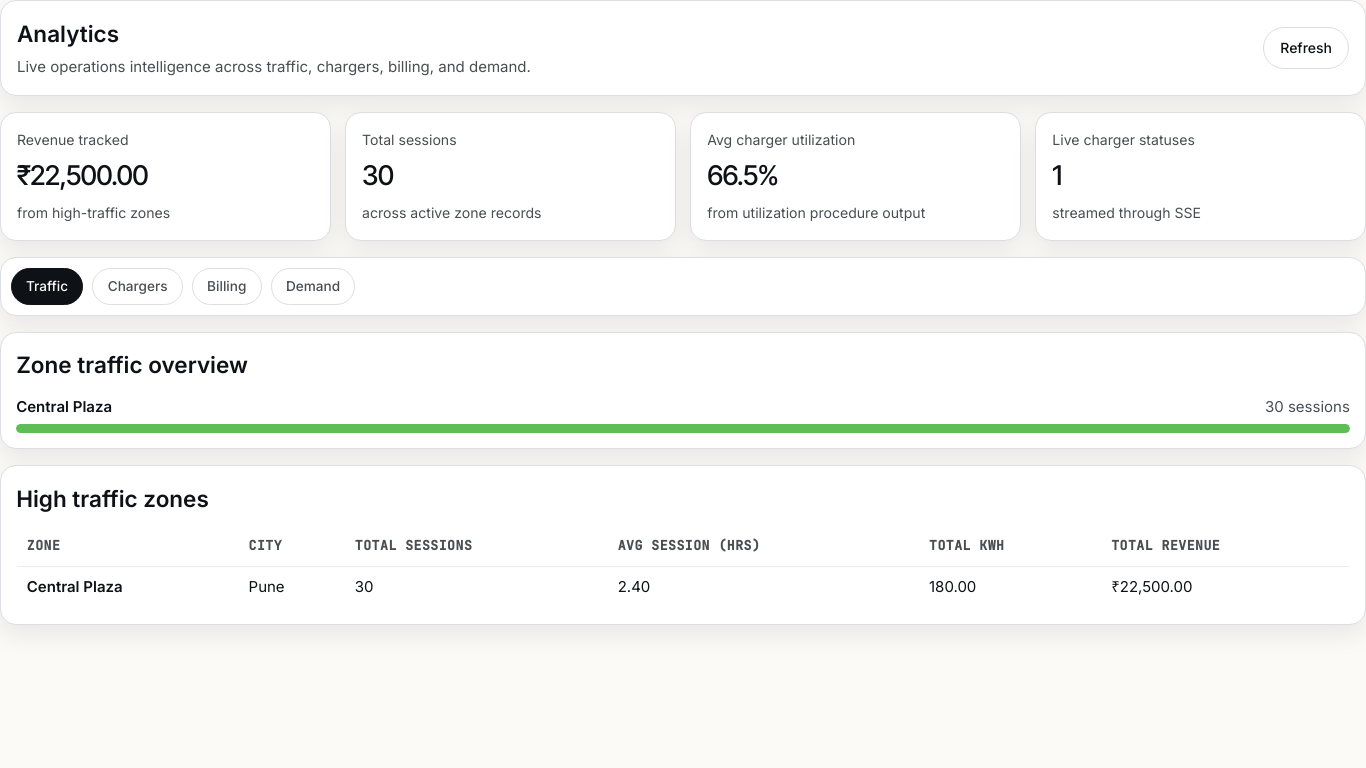
Scenario: AnalyticsPage › loads analytics and lets admin switch tabs
Expected: the heading "High traffic zones" is shown, [16,482,209,515]
Expected: the text "Central Plaza" below "Zone traffic overview" is shown, [16,397,112,416]
Click the tab "Chargers": coordinates (138, 287) [92,268,183,305]
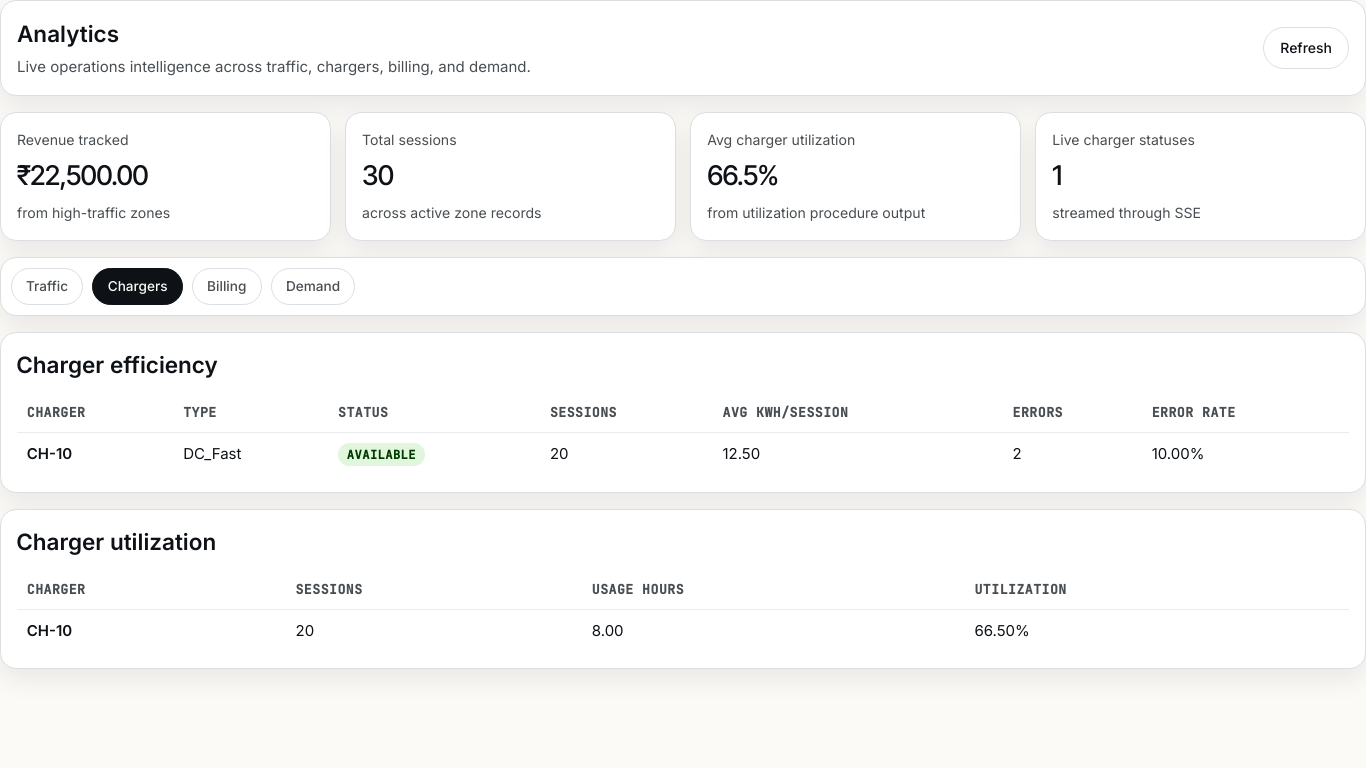
Expected: the heading "Charger efficiency" is shown, [16,348,218,382]
Expected: the text "CH-10" next to "DC_Fast" is shown, [27,444,72,463]
Click the tab "Demand": coordinates (313, 287) [270,268,356,305]
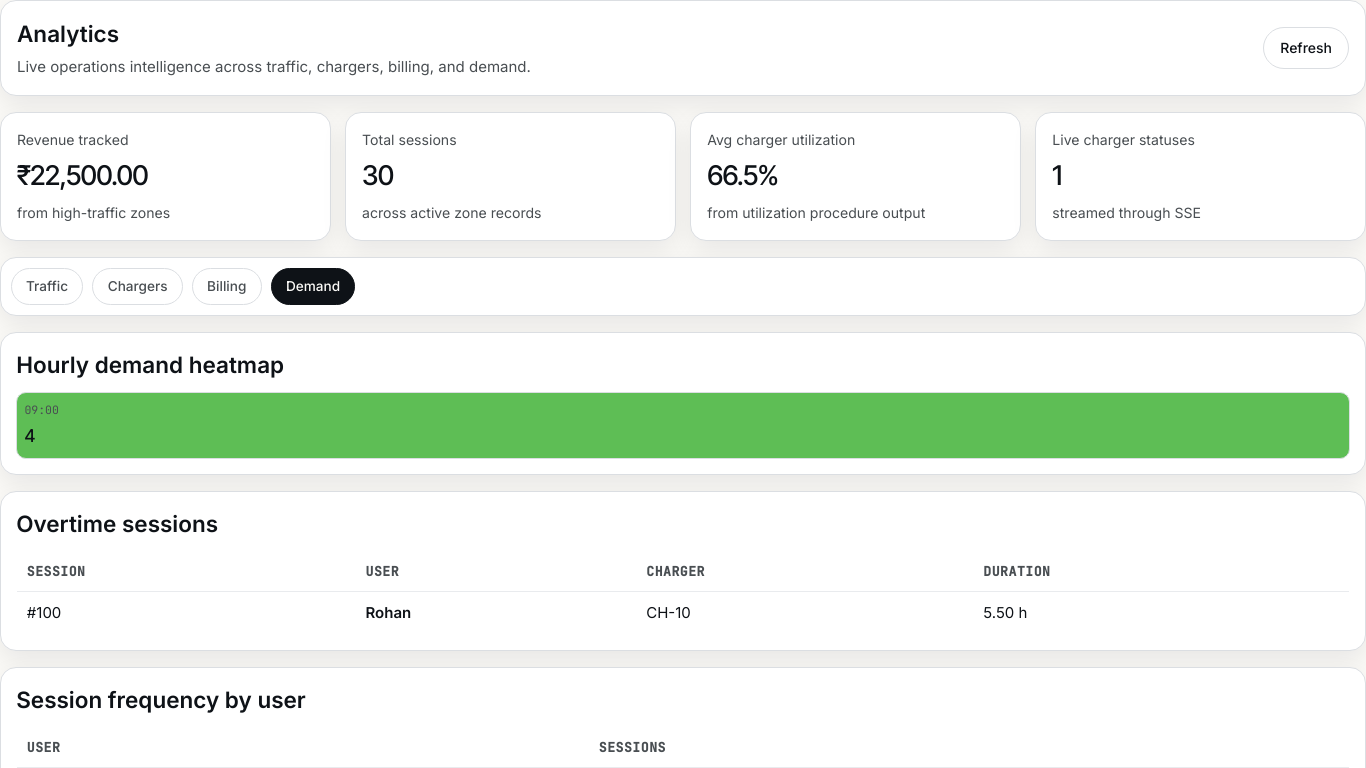
Expected: the heading "Hourly demand heatmap" is shown, [16,348,284,382]
Expected: the text "09:00" is shown, [24,402,59,417]
